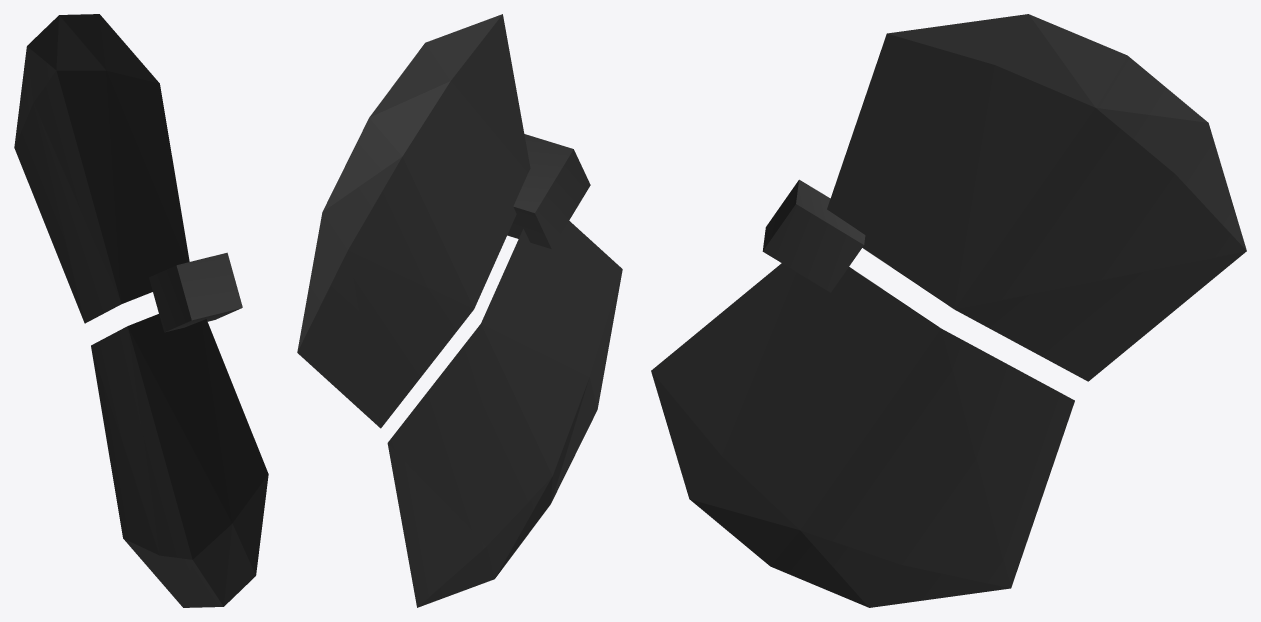
The model's file is knight_axe.glb.
The picture shows the model from 3 angles, left to right: view 1: azimuth 30°, elevation 25°; view 2: azimuth 150°, elevation 25°; view 3: azimuth 270°, elevation 25°; orthographic projection. The views are drawn at different scales.
Visible parts, largest first — view 1: world; view 2: world; view 3: world.
Boxes of the visible parts, box(x1,y1,x2,y2) form: world: box(14, 14, 268, 607); world: box(297, 14, 622, 607); world: box(651, 14, 1246, 607).
Size of the model in its own units: 0.0682 by 0.6613 by 0.6069.
Materials: 1 (1 with a texture image).
